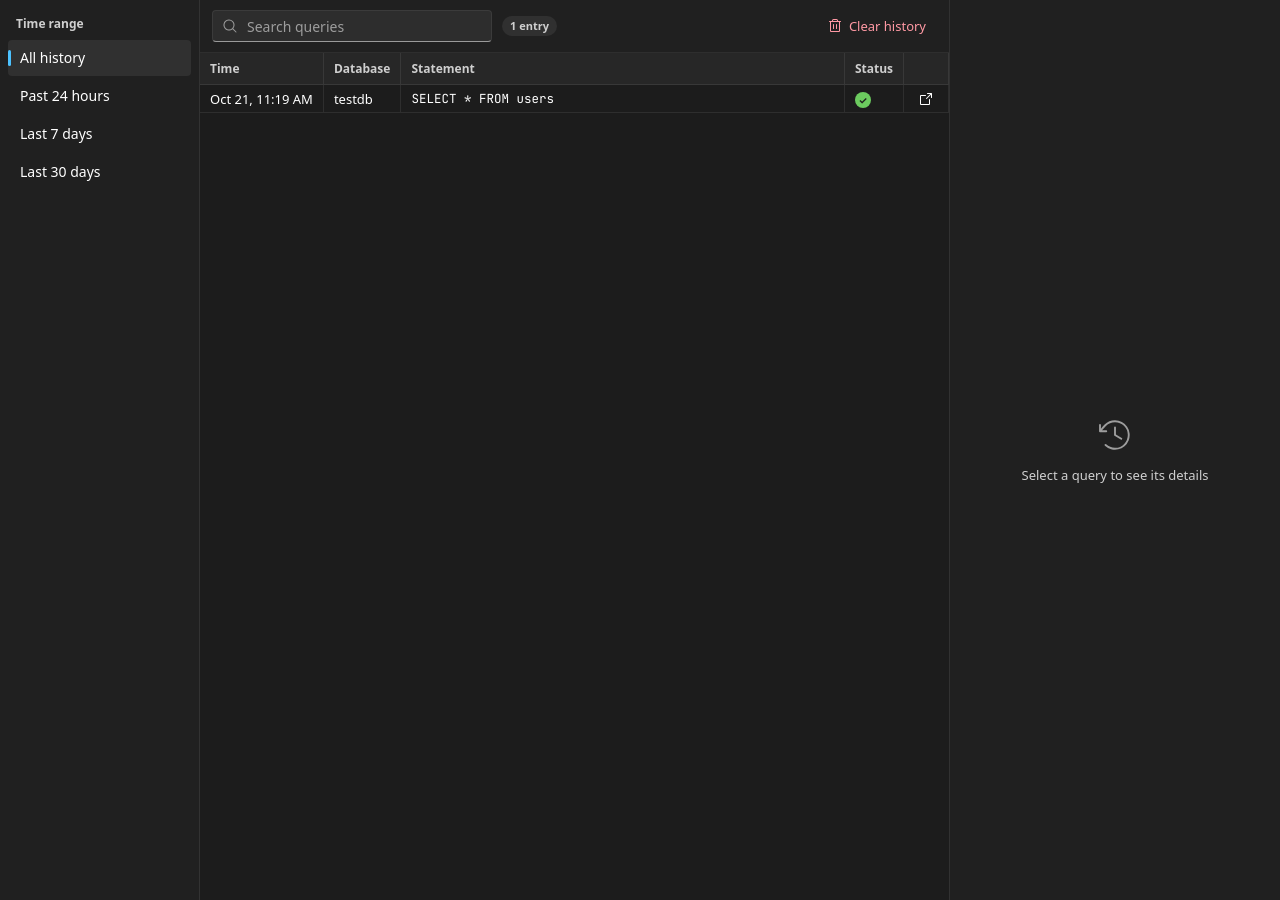
Test: HistoryTab › clicking a row selects it and shows detail
The width and height of the screenshot is (1280, 900).
Check: the element with test id "history-detail-empty" is shown, box [1022,415,1208,484]
Click the row
Click the row with test id "history-table-row-1" at (574, 99), box [200,85,949,113]
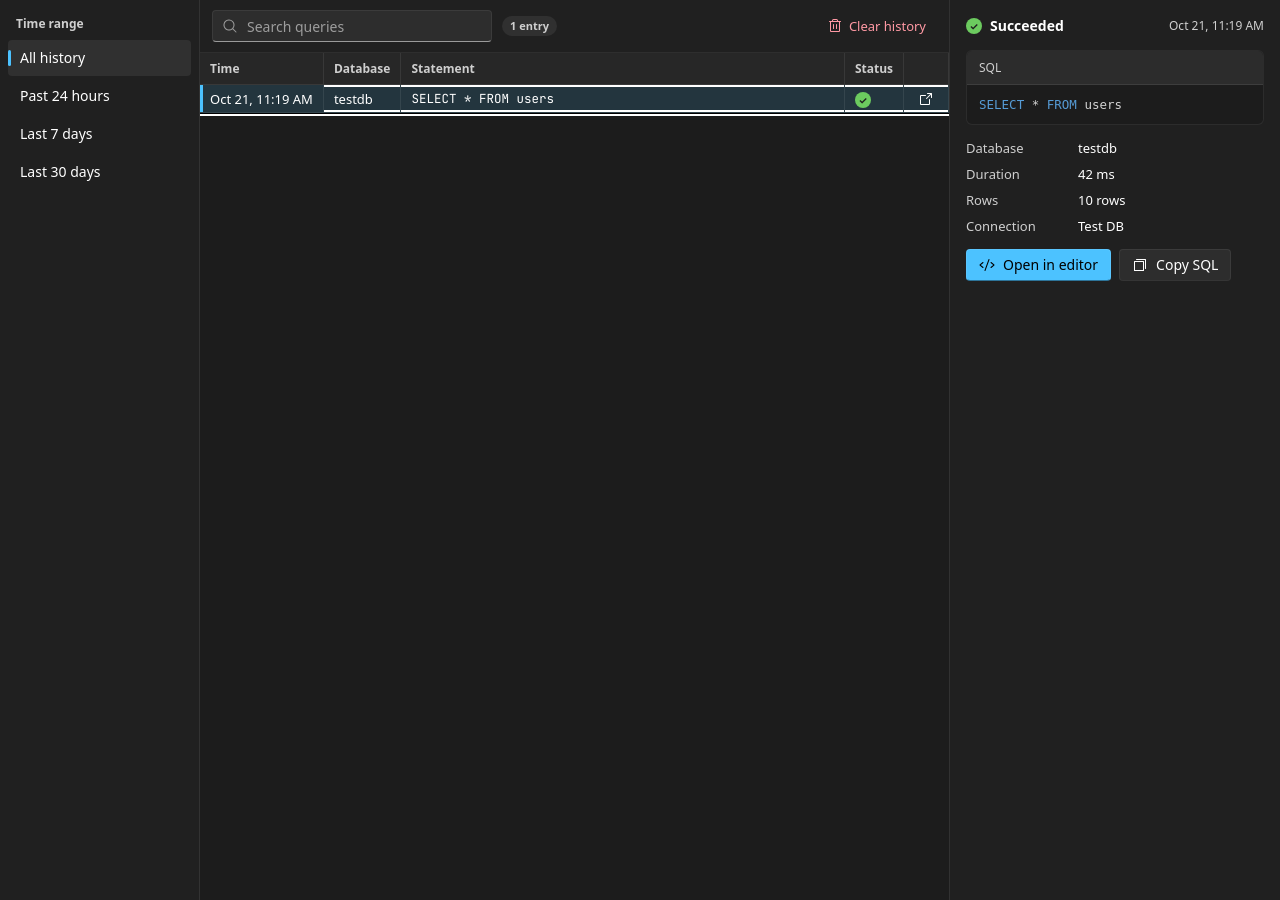
Check: the element showing "SELECT * FROM users" is shown, box [979,97,1122,112]
Check: the text "42 ms" is shown, box [1078,165,1115,183]
Check: the text "Test DB" is shown, box [1078,217,1124,235]
